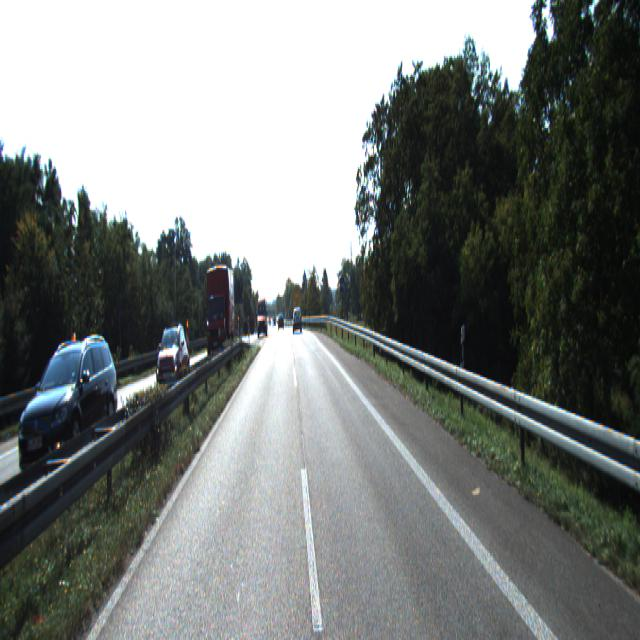Car: (18, 329, 123, 483), (203, 263, 237, 362), (156, 322, 190, 398), (256, 296, 268, 341), (293, 308, 302, 332)
